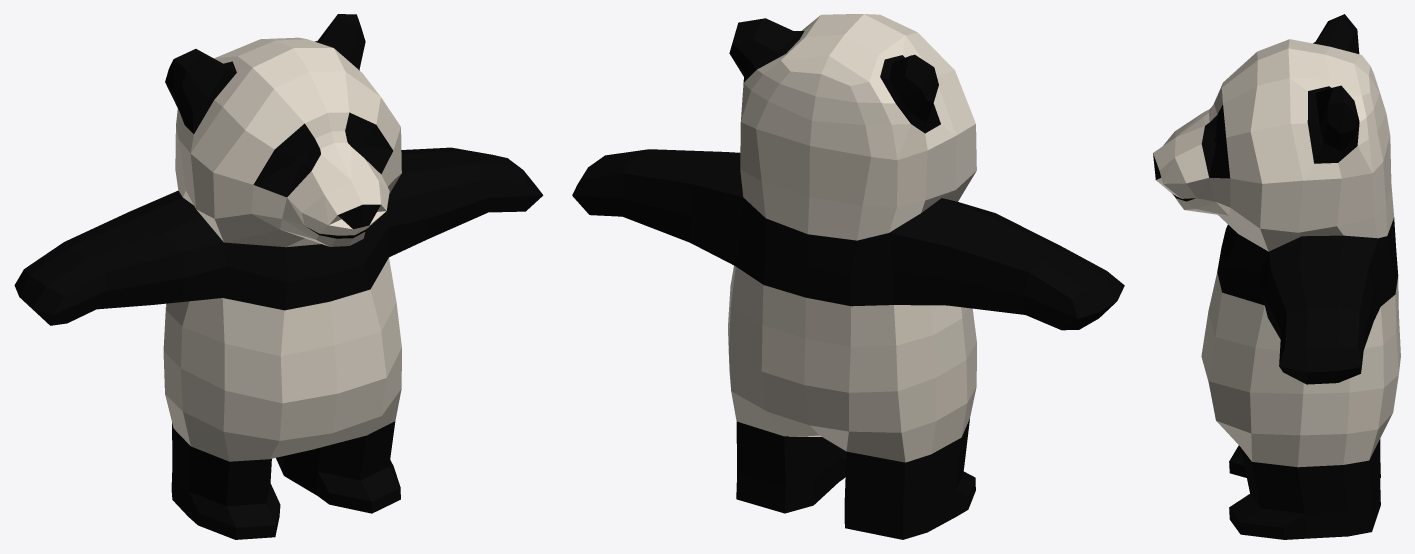
The model's file is Panda.obj.
3 views of the same model, side by side, from view 1: azimuth 30°, elevation 25°; view 2: azimuth 150°, elevation 25°; view 3: azimuth 270°, elevation 25° (orthographic). The views are drawn at different scales.
Visible parts, largest first — view 1: Plane; view 2: Plane; view 3: Plane.
Part boxes in pixels (box(x1,y1,x2,y2)): Plane: box(14, 14, 543, 539); Plane: box(572, 14, 1124, 539); Plane: box(1153, 14, 1400, 539).
Bounding box in the file's own units: 5.07 × 4.38 × 2.2.
